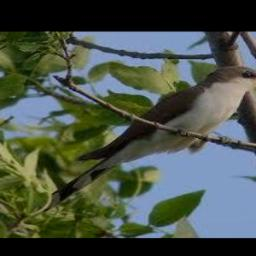Cuckoo: (36, 66, 256, 213)
